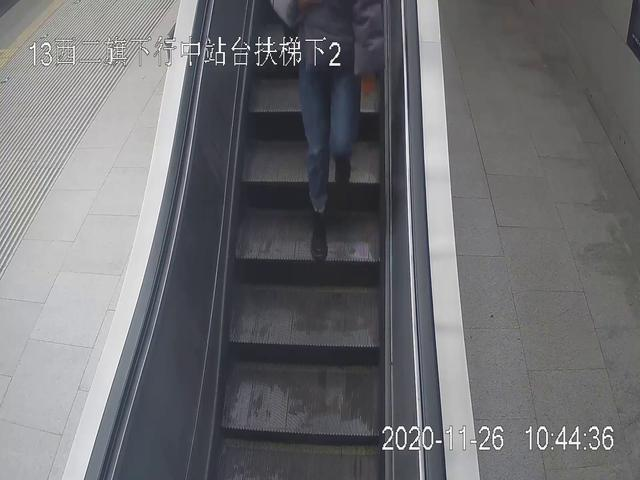person: (274, 2, 381, 257)
